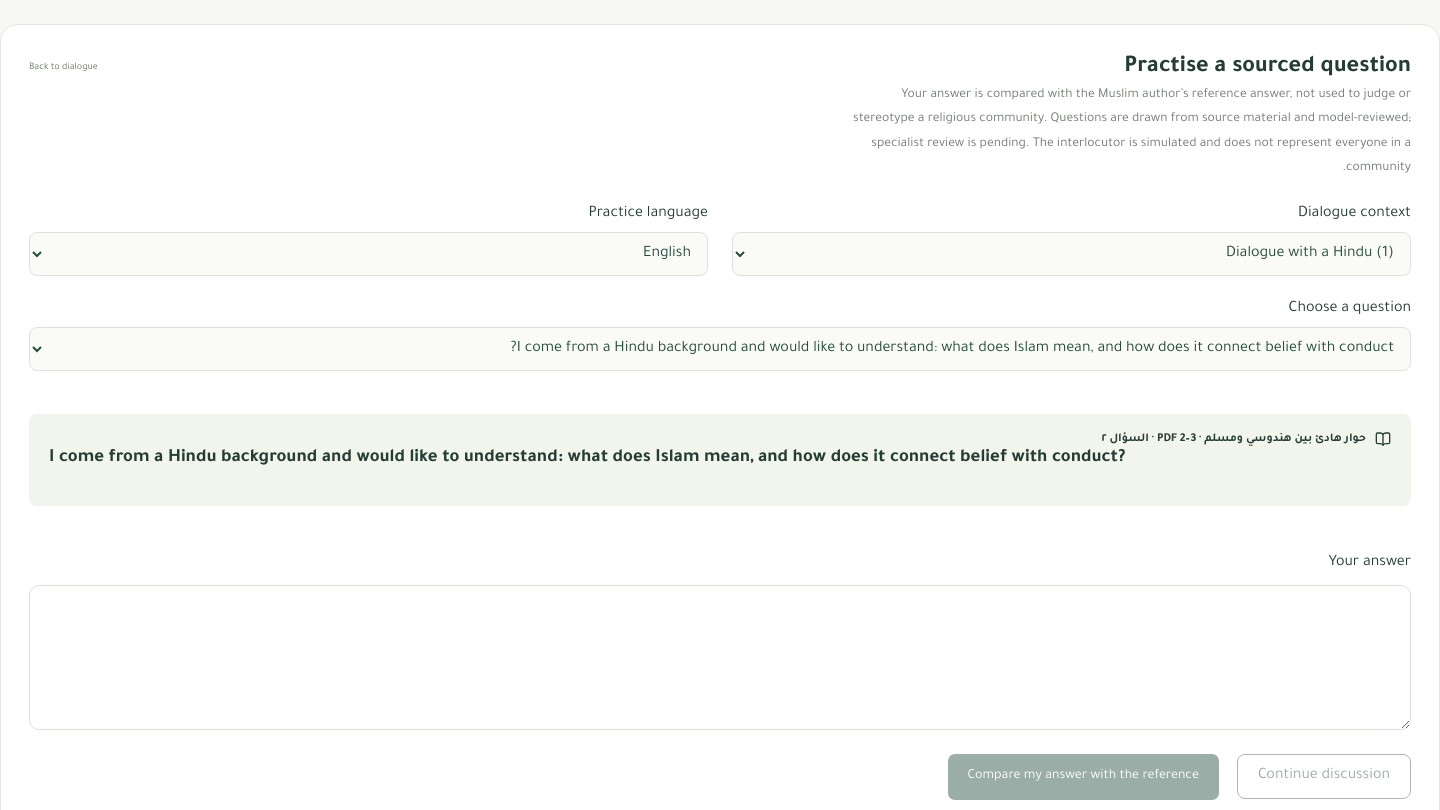
Test: shows an unavailable context without silently substituting another question
This screenshot has width=1440, height=810.
expect the heading named "I come from a Hindu background and would like to understand: what does Islam mean, and how does it connect belief with c" is shown: met, box [49,449,1125,468]
Select "Dialogue with a Christian (0)" in the dropdown labelled "Dialogue context" at [1072, 254], box [732,232,1411,276]
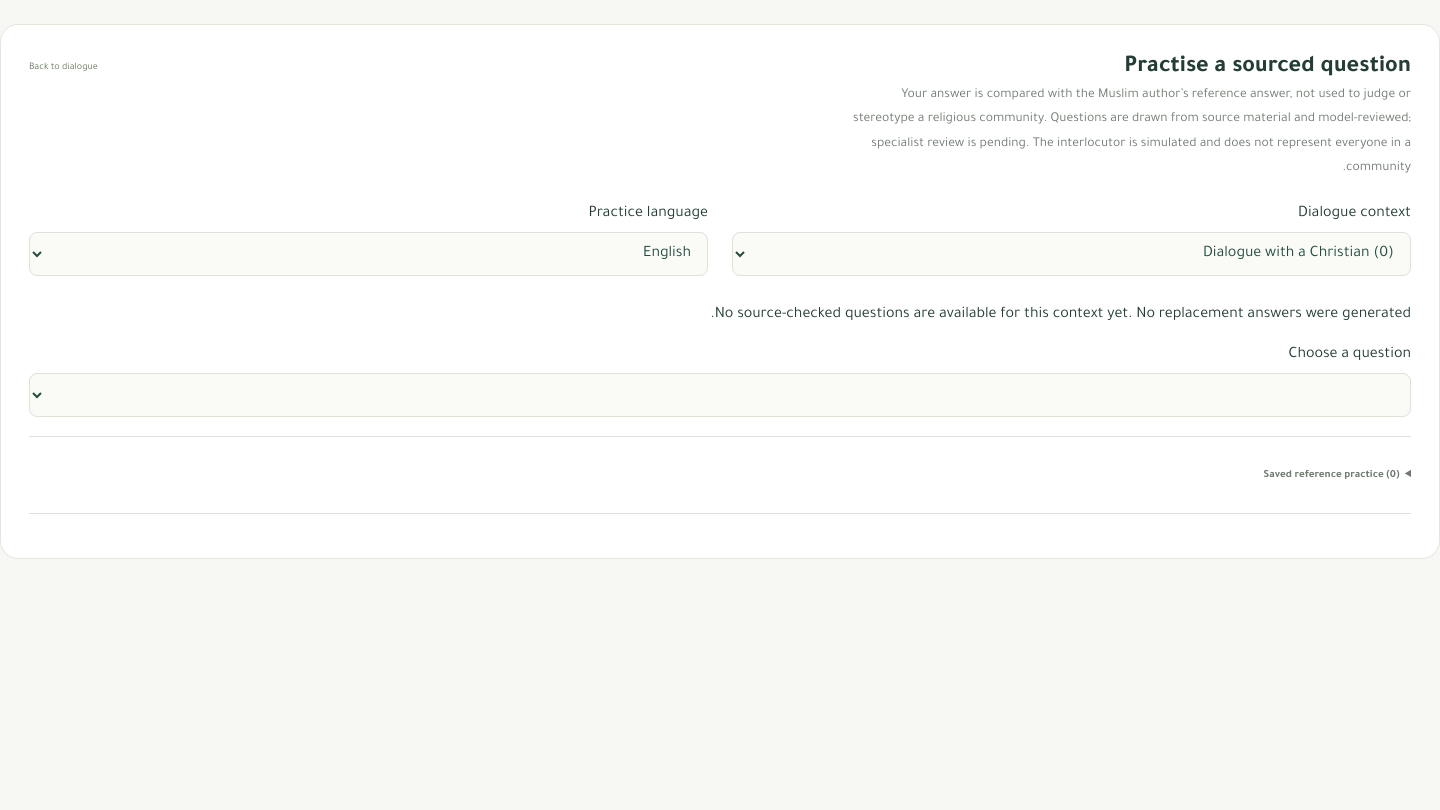
expect the text "No source-checked questions" is shown: met, box [710,307,1411,323]
expect the button "Compare my answer with the reference" is gone: met
